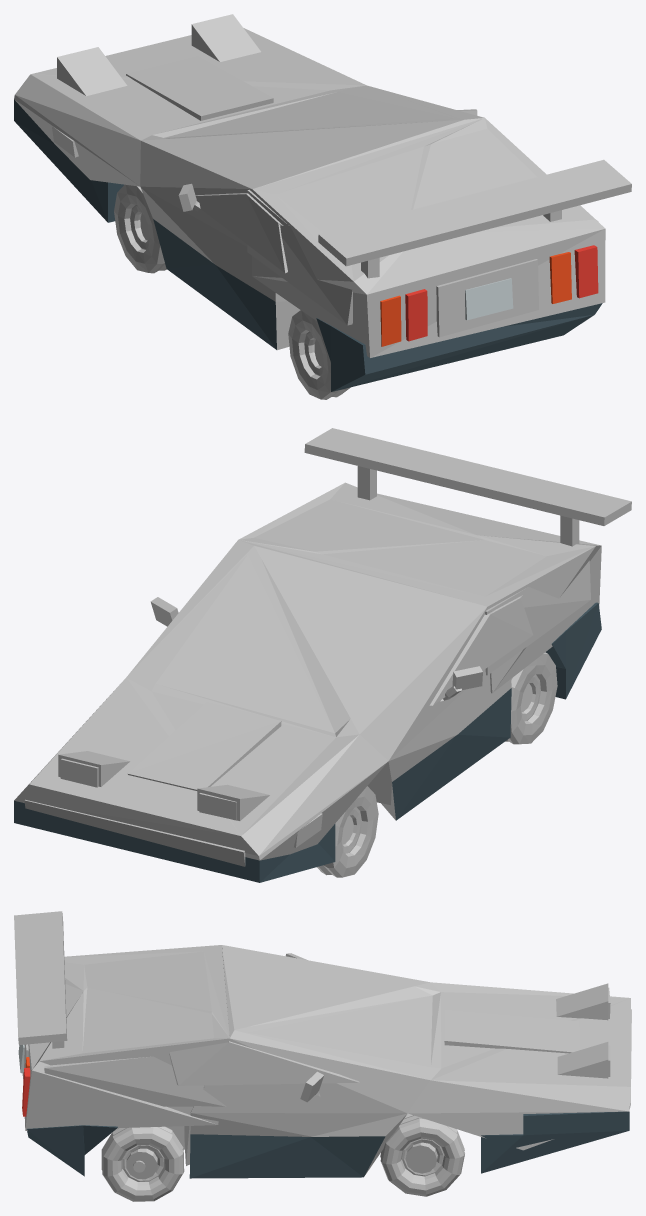
Rendered from 80scar.obj.
3 views of the same model, one above another, from view 1: azimuth 30°, elevation 25°; view 2: azimuth 150°, elevation 25°; view 3: azimuth 270°, elevation 25° (orthographic). The views are drawn at different scales.
Parts seen in each view (by area): view 1: group1128419807, group988151536, group277242219, group721949634, group76841975, group45807266, group461244471, group2013031579, group1451283957, group227849536, group8389681, group1661375634 (+6 smaller); view 2: group1128419807, group988151536, group277242219, group76841975, group1451283957, group461244471, group2013031579, group811078233, group424329267, group721949634, group227849536, group8389681 (+3 smaller); view 3: group1128419807, group988151536, group277242219, group1956411283, group1451283957, group2013031579, group76841975, group1216388560, group1220012367, group721949634, group8389681, group1661375634 (+4 smaller).
Boxes of the visible parts, <box> form: group1128419807: <box>14,28,484,350</box>; group988151536: <box>252,118,605,357</box>; group277242219: <box>318,159,631,266</box>; group721949634: <box>316,303,602,391</box>; group76841975: <box>126,55,273,120</box>; group45807266: <box>436,259,538,337</box>; group461244471: <box>195,193,287,273</box>; group2013031579: <box>247,189,598,325</box>; group1451283957: <box>14,99,123,222</box>; group227849536: <box>114,184,164,273</box>; group8389681: <box>57,47,127,96</box>; group1661375634: <box>191,14,260,61</box>; group1128419807: <box>14,540,511,860</box>; group988151536: <box>238,482,601,693</box>; group277242219: <box>304,428,631,525</box>; group76841975: <box>128,702,281,790</box>; group1451283957: <box>14,800,335,882</box>; group461244471: <box>429,595,532,705</box>; group2013031579: <box>485,560,590,675</box>; group811078233: <box>24,799,245,866</box>; group424329267: <box>508,652,557,744</box>; group721949634: <box>545,602,601,699</box>; group227849536: <box>323,786,378,877</box>; group8389681: <box>197,784,269,820</box>; group1128419807: <box>184,945,630,1178</box>; group988151536: <box>24,945,229,1130</box>; group277242219: <box>14,911,67,1044</box>; group1956411283: <box>169,1041,359,1085</box>; group1451283957: <box>481,1111,629,1173</box>; group2013031579: <box>44,1056,226,1106</box>; group76841975: <box>444,1010,579,1053</box>; group1216388560: <box>102,1127,184,1201</box>; group1220012367: <box>380,1117,464,1196</box>; group721949634: <box>26,1125,117,1176</box>; group8389681: <box>556,983,608,1020</box>; group1661375634: <box>557,1042,608,1078</box>.
Bounding box in the file's own units: 0.7857 × 0.4904 × 1.53.
